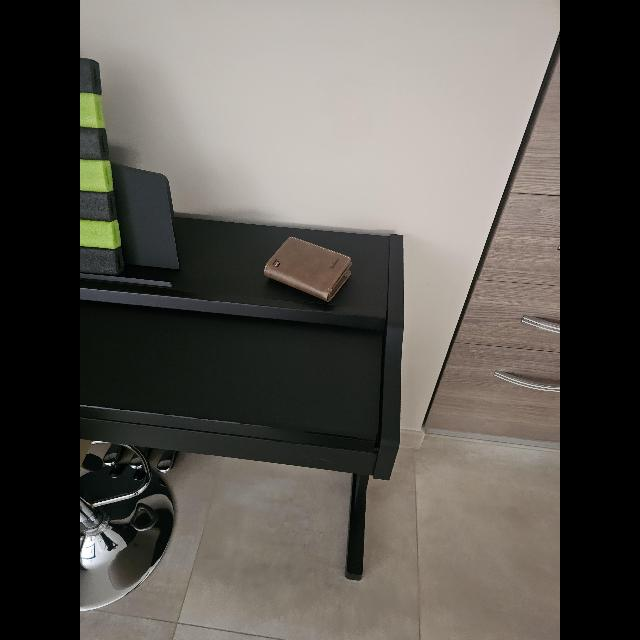Wallet: (263, 235, 353, 302)
